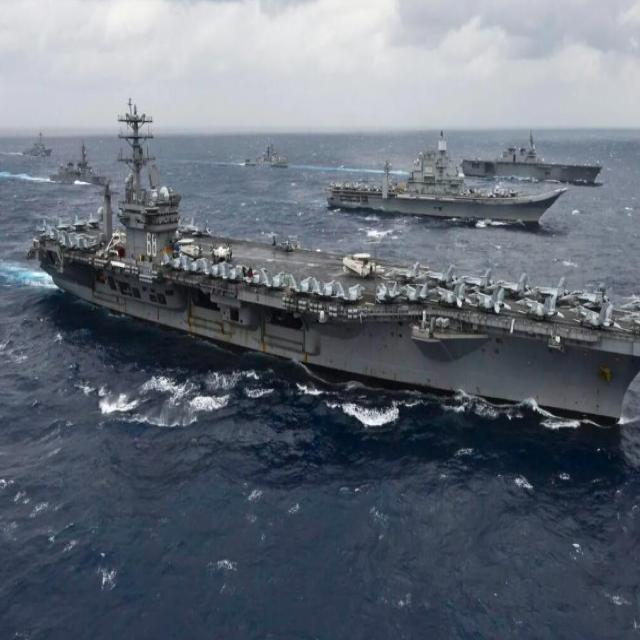navalvessels: (29, 105, 640, 434), (321, 126, 549, 244), (462, 110, 602, 200), (37, 138, 114, 184), (234, 135, 296, 167), (18, 125, 57, 171)
